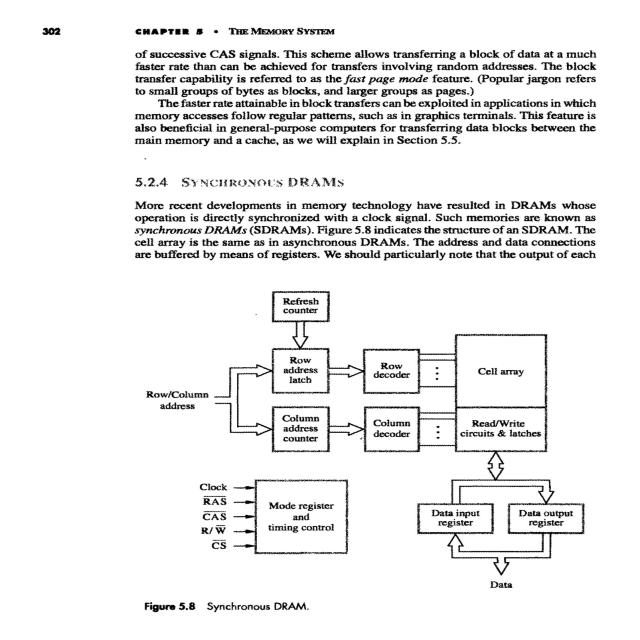diagram: (84, 272, 626, 622), (90, 274, 596, 619), (639, 191, 640, 208)
